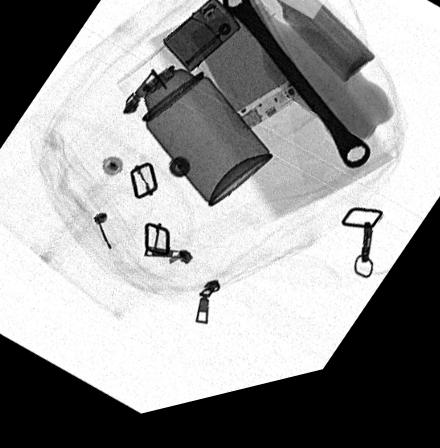Lighter: (159, 4, 241, 82)
Powerbank: (183, 0, 308, 147)
Sprayer: (114, 45, 274, 216)
